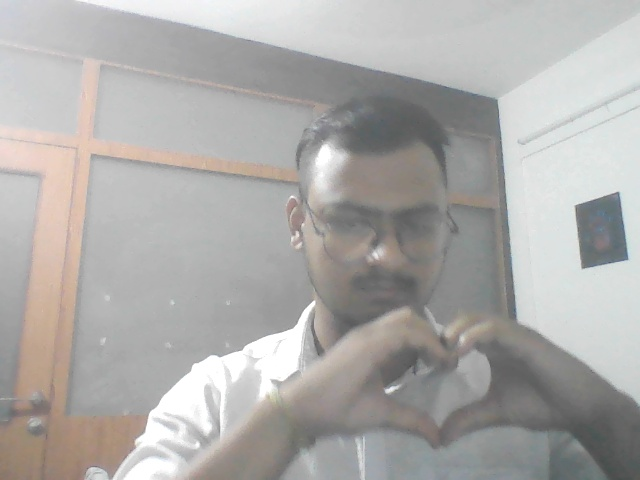Heart: (300, 307, 575, 455)
